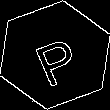P_N: (27, 25, 83, 85)
